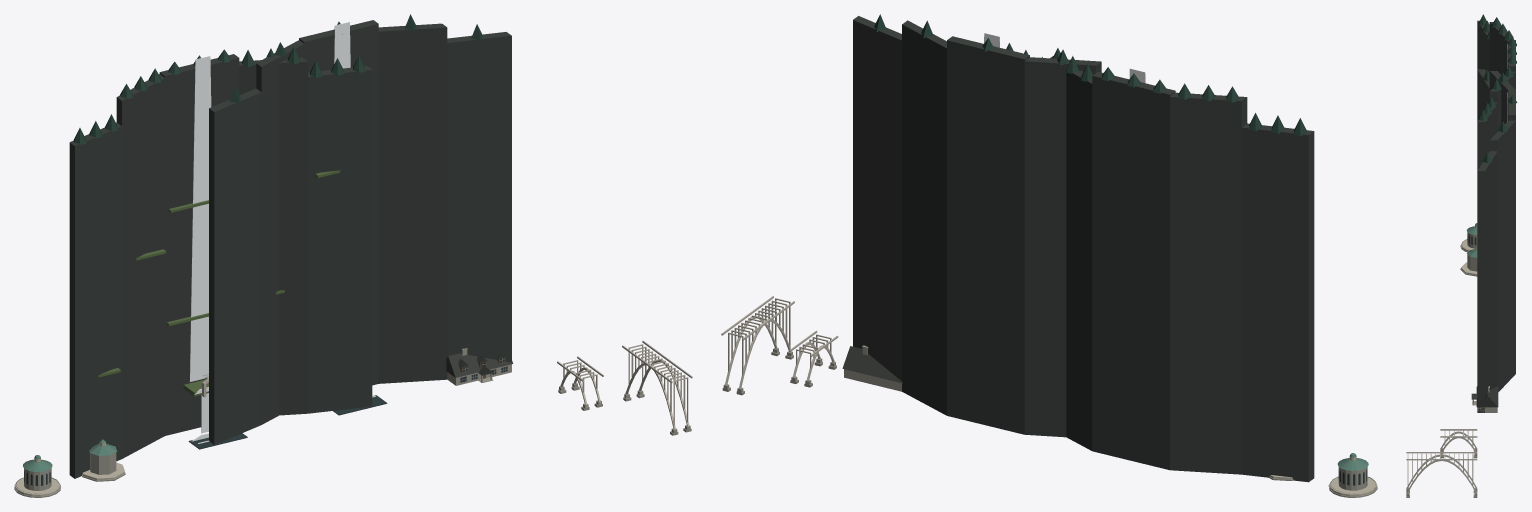
File: gorge-landmarks.glb
3 views of the same model, side by side, from view 1: azimuth 30°, elevation 25°; view 2: azimuth 150°, elevation 25°; view 3: azimuth 270°, elevation 25° (orthographic). The views are drawn at different scales.
Visible parts, largest first — view 1: multnomah_falls_lod0_body, multnomah_falls_lod1_body, gorge_arch_span_46_body, multnomah_lodge_body, vista_house_lod0_body, vista_house_lod1_body, gorge_arch_bay_body; view 2: multnomah_falls_lod0_body, multnomah_falls_lod1_body, gorge_arch_span_46_body, multnomah_lodge_body, vista_house_lod0_body, gorge_arch_bay_body; view 3: multnomah_falls_lod1_body, multnomah_falls_lod0_body, gorge_arch_span_46_body, multnomah_lodge_body, gorge_arch_bay_body, vista_house_lod1_body, vista_house_lod0_body.
Boxes of the visible parts, x1=… form: multnomah_falls_lod0_body: x1=69, y1=47, x2=372, y2=478; multnomah_falls_lod1_body: x1=209, y1=14, x2=511, y2=444; gorge_arch_span_46_body: x1=622, y1=340, x2=692, y2=435; multnomah_lodge_body: x1=446, y1=348, x2=513, y2=385; vista_house_lod0_body: x1=14, y1=455, x2=60, y2=497; vista_house_lod1_body: x1=82, y1=439, x2=125, y2=481; gorge_arch_bay_body: x1=557, y1=356, x2=603, y2=410; multnomah_falls_lod0_body: x1=1006, y1=43, x2=1314, y2=482; multnomah_falls_lod1_body: x1=853, y1=14, x2=1101, y2=437; gorge_arch_span_46_body: x1=721, y1=296, x2=794, y2=395; multnomah_lodge_body: x1=842, y1=345, x2=902, y2=391; vista_house_lod0_body: x1=1328, y1=453, x2=1377, y2=497; gorge_arch_bay_body: x1=789, y1=330, x2=838, y2=387; multnomah_falls_lod1_body: x1=1477, y1=69, x2=1517, y2=412; multnomah_falls_lod0_body: x1=1477, y1=14, x2=1516, y2=170; gorge_arch_span_46_body: x1=1406, y1=452, x2=1477, y2=497; multnomah_lodge_body: x1=1471, y1=386, x2=1498, y2=412; gorge_arch_bay_body: x1=1440, y1=429, x2=1477, y2=458; vista_house_lod1_body: x1=1460, y1=246, x2=1477, y2=276; vista_house_lod0_body: x1=1460, y1=223, x2=1477, y2=252.
Size of the model in its own units: 337 by 218 by 72.
